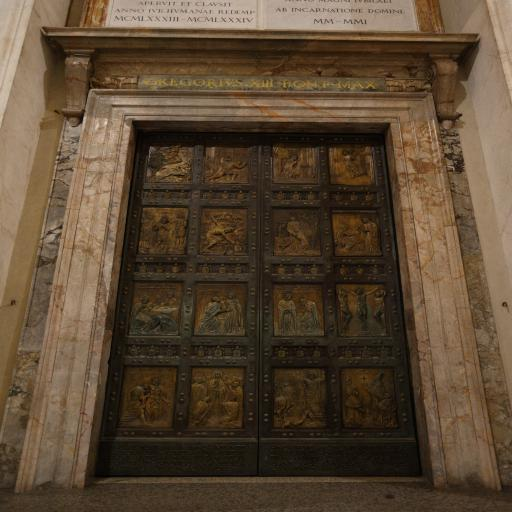Door: (92, 119, 427, 477)
